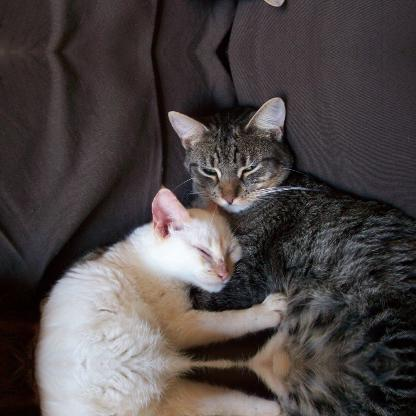Cat: (171, 96, 416, 364), (30, 184, 288, 362), (30, 365, 289, 415)
